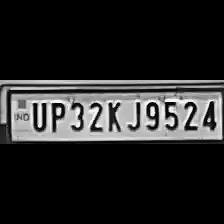2: (84, 98, 104, 132), (178, 98, 198, 132)
3: (66, 98, 86, 132)
4: (198, 97, 218, 131)
5: (160, 97, 180, 131)
9: (140, 98, 160, 130)
J: (124, 97, 142, 130)
K: (103, 98, 123, 132)
P: (46, 100, 66, 132)
U: (28, 99, 48, 131)
